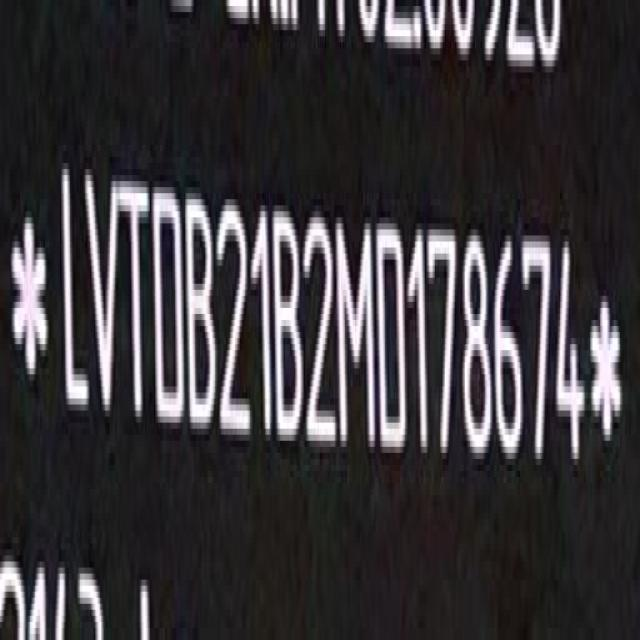1: (408, 230, 430, 454), (252, 203, 272, 445)
2: (302, 208, 339, 454), (217, 195, 253, 438)
4: (556, 230, 586, 472)
6: (492, 239, 523, 454)
7: (427, 228, 458, 456), (522, 230, 552, 465)
8: (462, 235, 494, 458)
B: (185, 197, 217, 436), (272, 208, 303, 445)
D: (150, 175, 185, 432), (376, 224, 408, 452)
L: (58, 161, 92, 409)
M: (336, 221, 376, 461)
T: (119, 179, 150, 427)
V: (83, 166, 120, 430)
